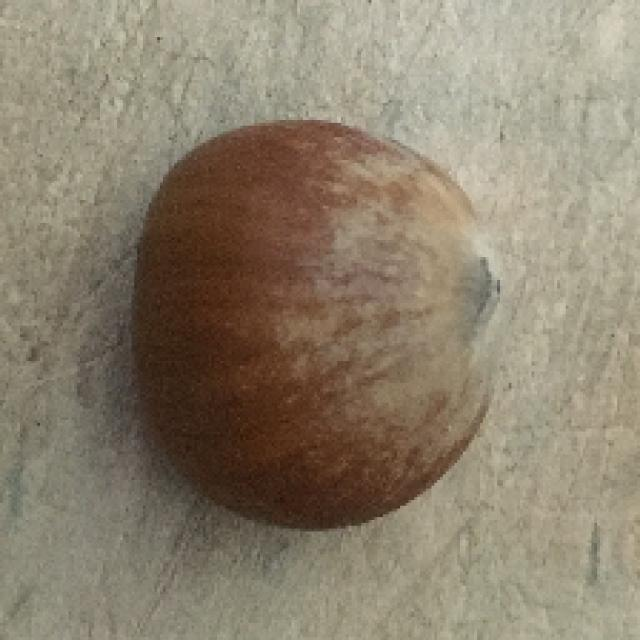qualityHazelnut: (133, 117, 503, 533)
